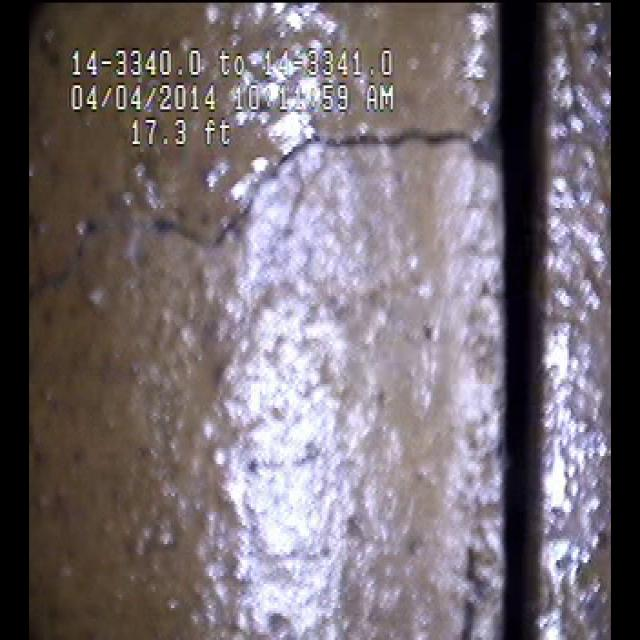Crack: (189, 102, 526, 270)
